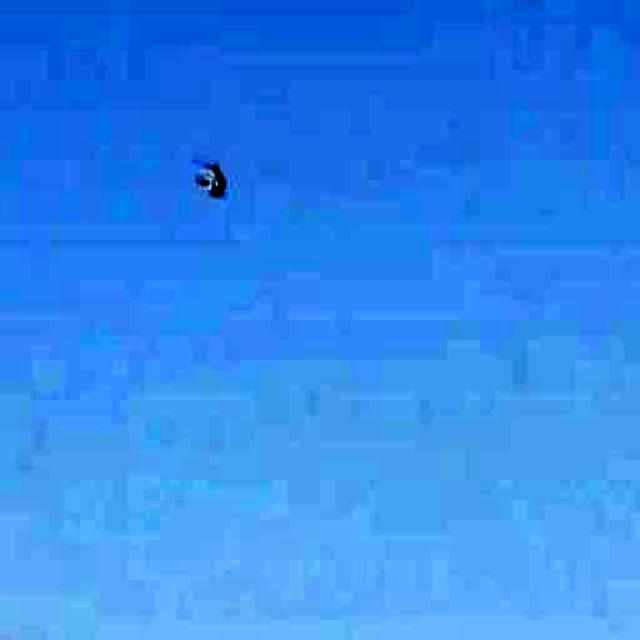drone: (168, 132, 268, 216)
